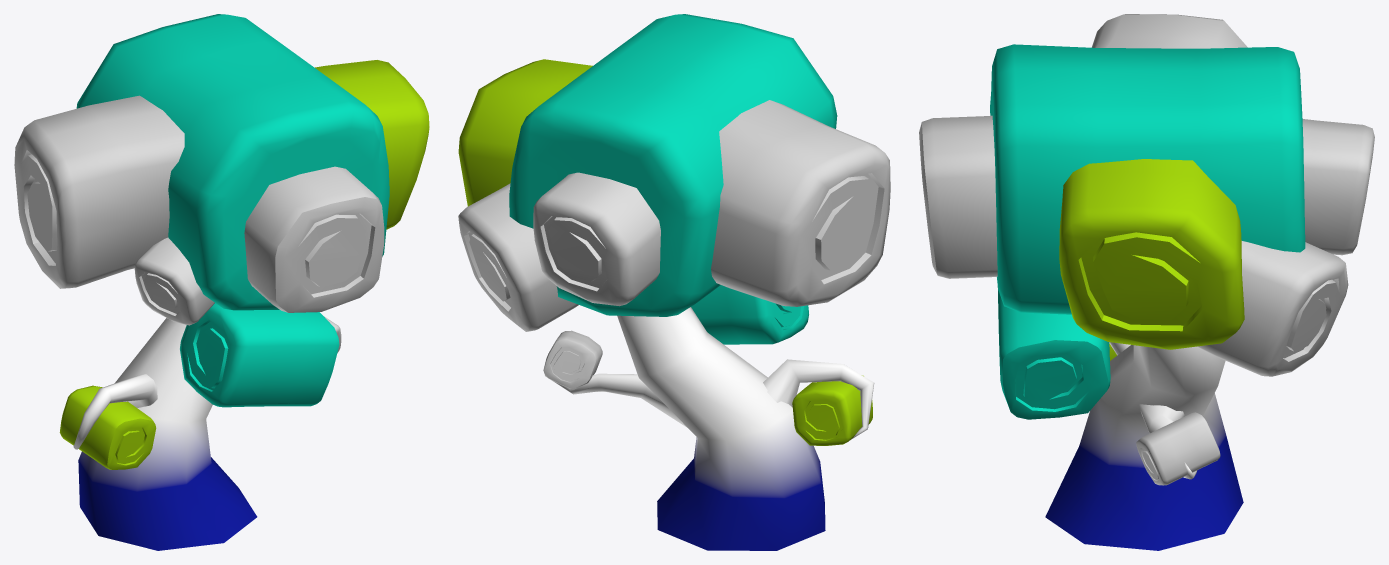
The model's file is Tree.FBX.
The picture shows the model from 3 angles, left to right: view 1: azimuth 30°, elevation 25°; view 2: azimuth 150°, elevation 25°; view 3: azimuth 270°, elevation 25°; orthographic projection. The views are drawn at different scales.
Visible parts, largest first — view 1: polySurface4, polySurface2; view 2: polySurface4, polySurface2; view 3: polySurface4, polySurface2.
Boxes of the visible parts, x1,y1,x2,y2 form: polySurface4: (14,14,429,469); polySurface2: (73,318,257,550); polySurface4: (458,14,890,445); polySurface2: (545,307,874,550); polySurface4: (919,14,1374,485); polySurface2: (1045,342,1243,550).
Bounding box in the file's own units: 3 × 3.31 × 2.87.
